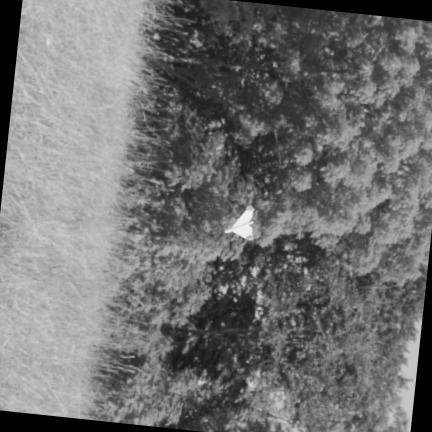Shahed: (224, 206, 253, 239)
